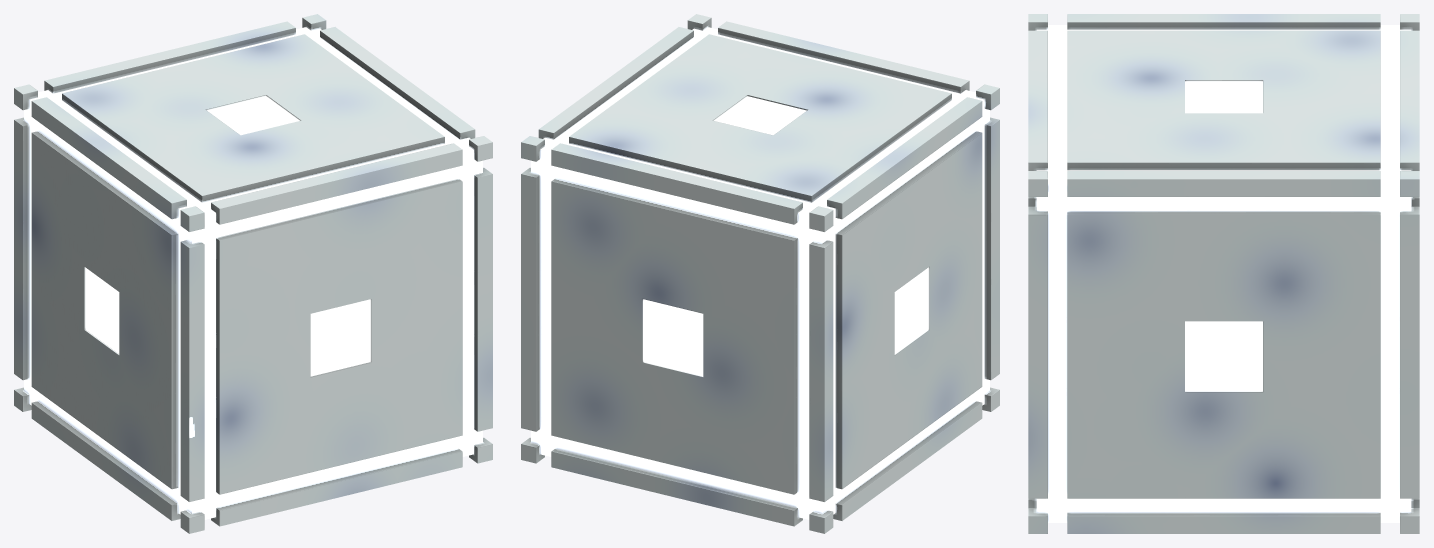
3 views of the same model, side by side, from view 1: azimuth 30°, elevation 25°; view 2: azimuth 150°, elevation 25°; view 3: azimuth 270°, elevation 25° (orthographic). The views are drawn at different scales.
Parts seen in each view (by area): view 1: cube; view 2: cube; view 3: cube.
Boxes of the visible parts, bbox=[...] form: cube: bbox=[14, 14, 492, 533]; cube: bbox=[521, 14, 999, 533]; cube: bbox=[1028, 14, 1419, 533].
Size of the model in its own units: 2 by 2 by 2.
Materials: 1 (1 with a texture image).
